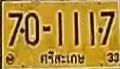0: (24, 12, 38, 45)
1: (89, 11, 94, 45), (73, 11, 78, 45), (58, 12, 63, 46)
7: (100, 10, 114, 44), (8, 12, 22, 45)
SSK: (38, 50, 86, 65)
